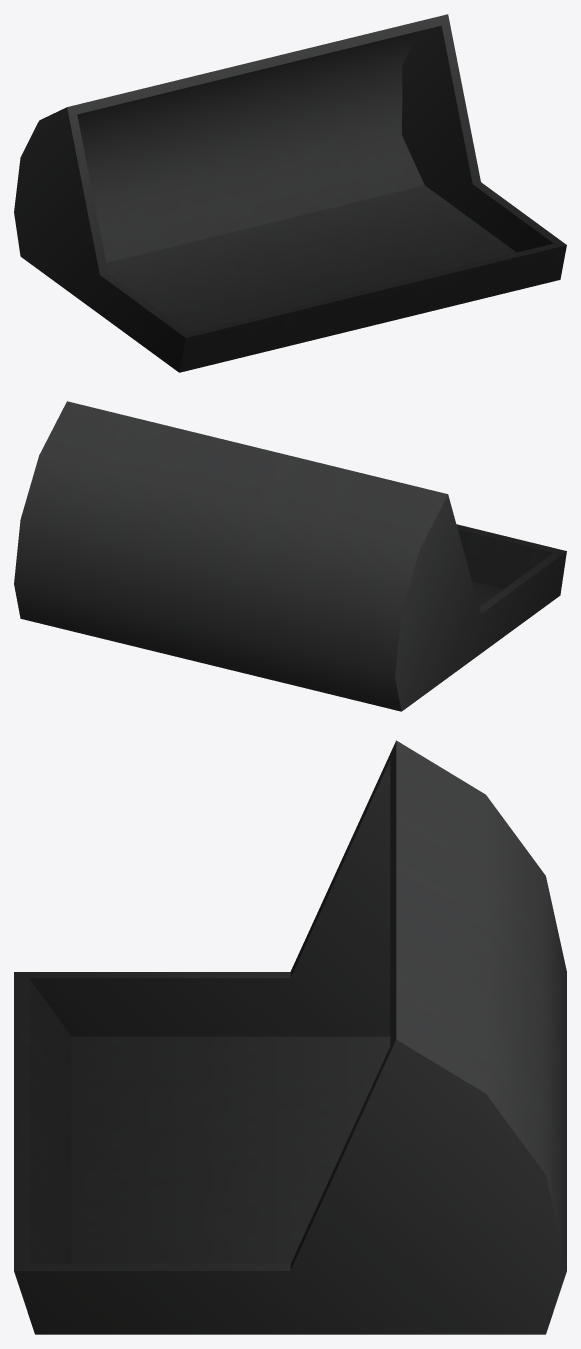
Rendered from BreadBin_Base.fbx.
3 views of the same model, one above another, from view 1: azimuth 30°, elevation 25°; view 2: azimuth 150°, elevation 25°; view 3: azimuth 270°, elevation 25° (orthographic). The views are drawn at different scales.
Visible parts, largest first — view 1: BreadBin_Base; view 2: BreadBin_Base; view 3: BreadBin_Base.
Part boxes in pixels (box(x1,y1,x2,y2)): BreadBin_Base: box(14, 14, 566, 372); BreadBin_Base: box(14, 401, 566, 711); BreadBin_Base: box(14, 740, 566, 1334).
Bounding box in the file's own units: 64 × 29.44 × 50.
